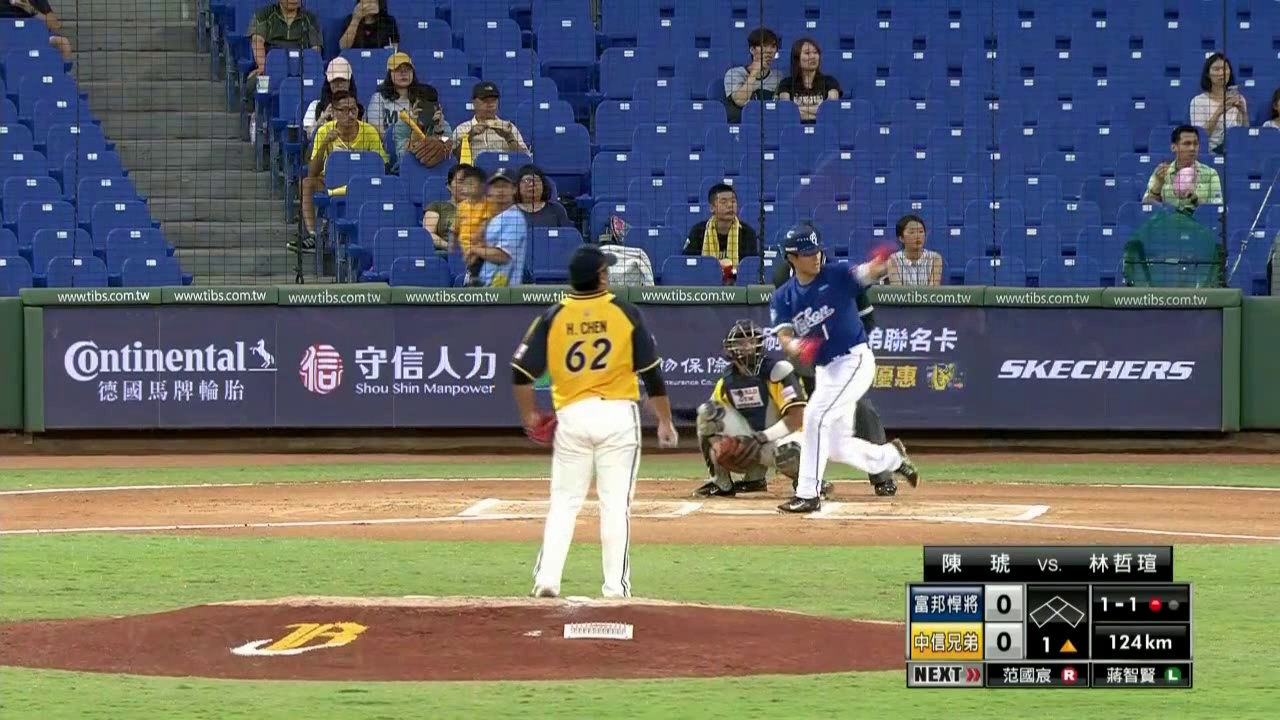base: (1025, 591, 1087, 632)
out: (1143, 592, 1181, 614)
score1: (990, 592, 1018, 620)
score2: (988, 626, 1019, 653)
session: (1027, 631, 1084, 656)
speed: (1095, 627, 1182, 657)
strikeball: (1099, 594, 1144, 618)
